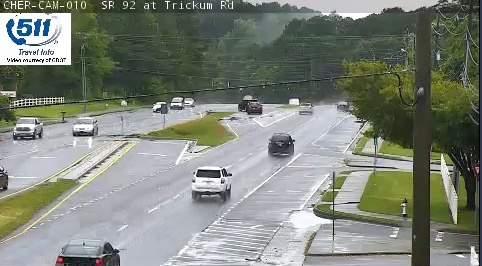car: (56, 240, 119, 266), (192, 167, 230, 195), (268, 133, 294, 155)
